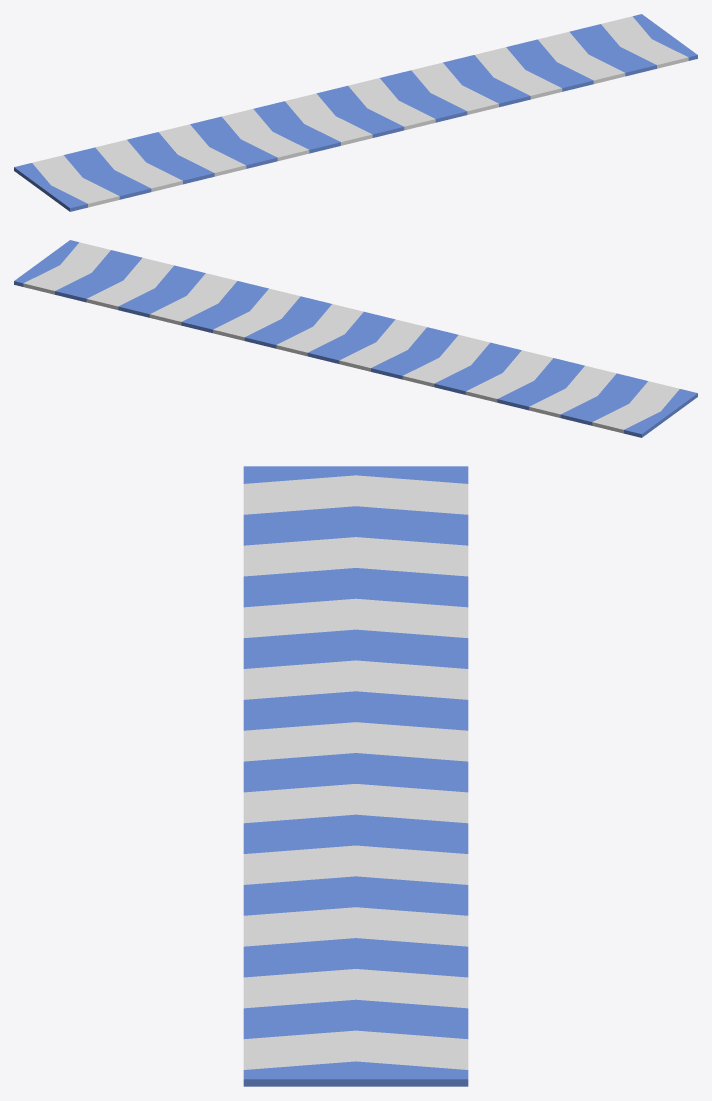
The model's file is Road.fbx.
The picture shows the model from 3 angles, top to bottom: view 1: azimuth 30°, elevation 25°; view 2: azimuth 150°, elevation 25°; view 3: azimuth 270°, elevation 25°; orthographic projection. The views are drawn at different scales.
Visible parts, largest first — view 1: Road; view 2: Road; view 3: Road.
Part boxes in pixels (x1,y1,x2,y2): Road: (14, 14, 697, 211); Road: (14, 240, 697, 437); Road: (243, 466, 468, 1086).
Size of the model in its own units: 1291 by 7.27 by 200.
